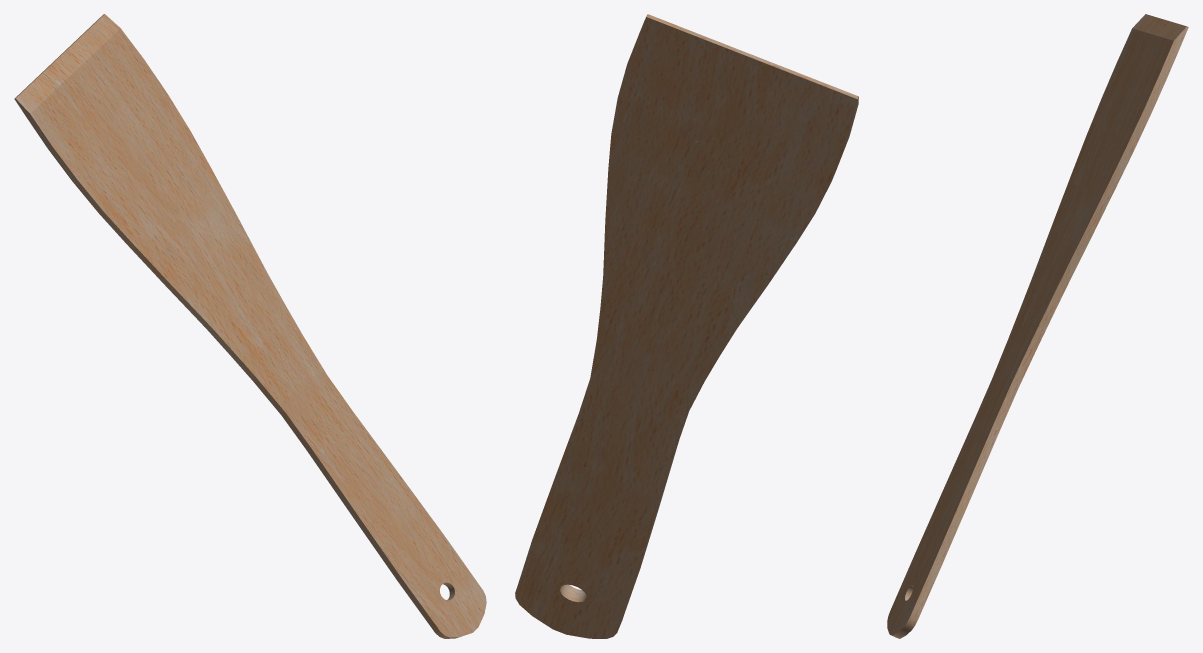
Rendered from cc0_-_wooden_spatula.opt.glb.
3 renders of one model, left to right at view 1: azimuth 30°, elevation 25°; view 2: azimuth 150°, elevation 25°; view 3: azimuth 270°, elevation 25°, orthographic. The views are drawn at different scales.
Parts seen in each view (by area): view 1: WoodenSpatula_WoodenSpatula_0; view 2: WoodenSpatula_WoodenSpatula_0; view 3: WoodenSpatula_WoodenSpatula_0.
Part boxes in pixels (x1,y1,x2,y2): WoodenSpatula_WoodenSpatula_0: (14,14,486,638); WoodenSpatula_WoodenSpatula_0: (515,14,858,638); WoodenSpatula_WoodenSpatula_0: (887,14,1188,638).
Size of the model in its own units: 0.1644 by 0.2555 by 0.1348.
1 material, 1 textured.
